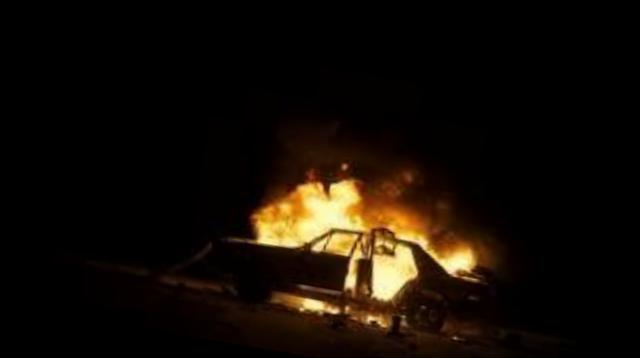fire: (223, 148, 493, 330)
